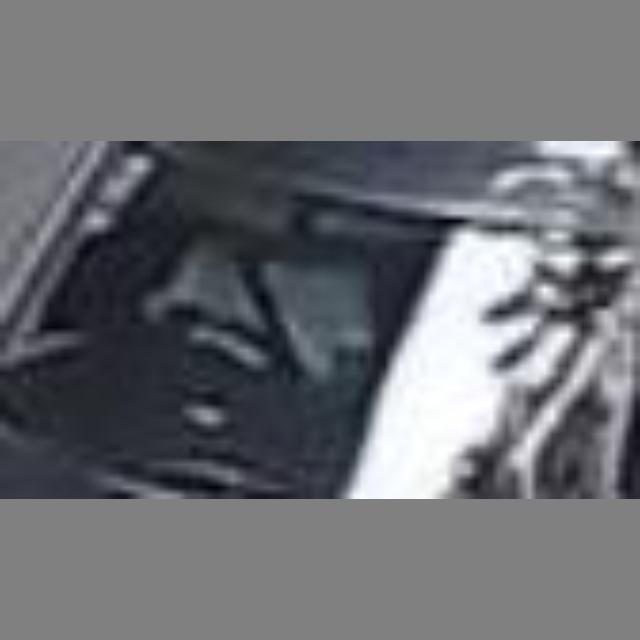pakai: (137, 194, 358, 415)
